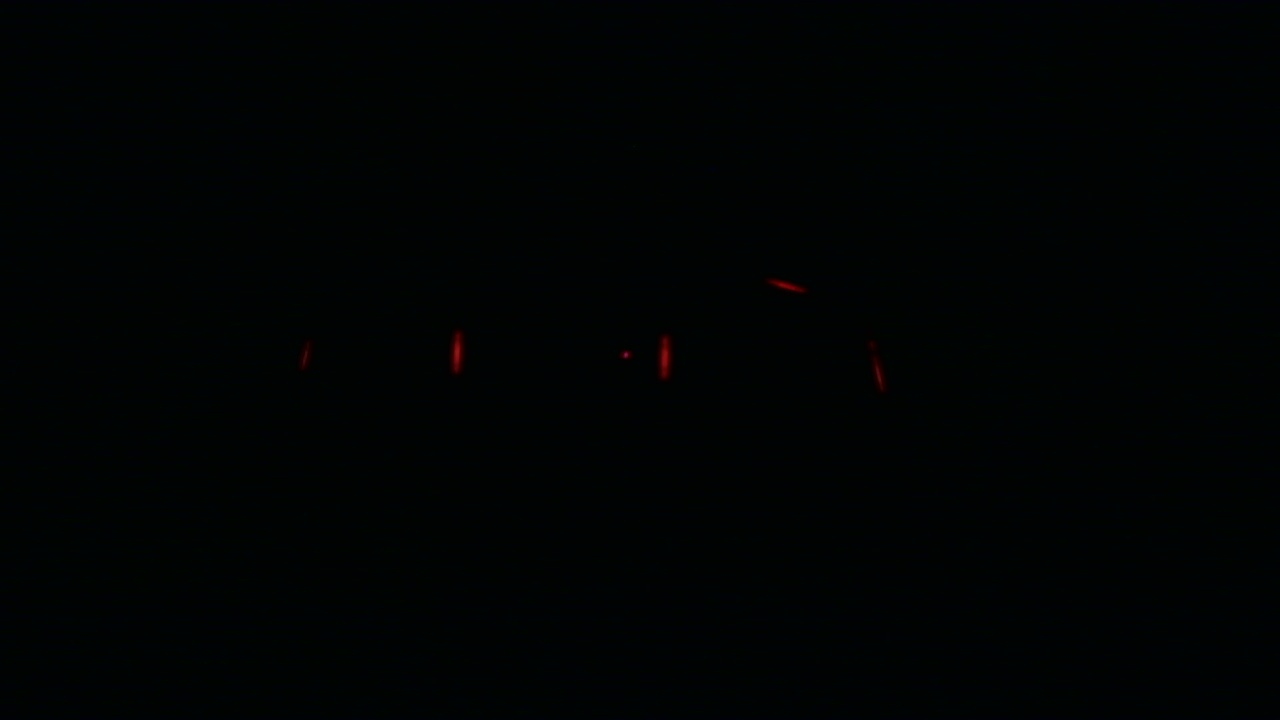lamp: (450, 328, 464, 375), (657, 332, 670, 379), (874, 353, 887, 386)
notpair2: (659, 335, 887, 398)
pair2: (453, 329, 671, 380)
